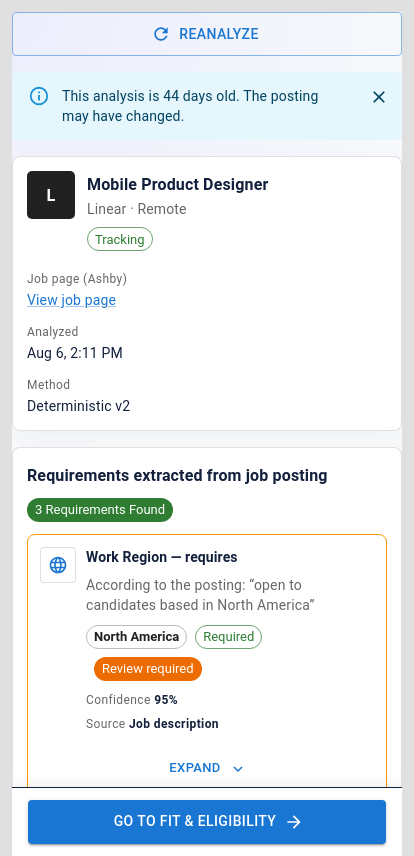
Test: AnalysisStep › preserves previous analysis when reanalyze fails
Click the button "Reanalyze" at coordinates (207, 34), box [12, 12, 402, 56]
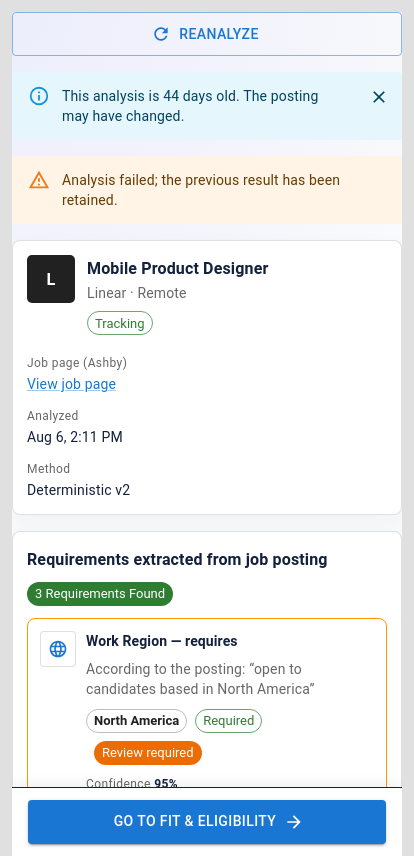
Check: the heading "Work Region — requires" is shown, box [86, 633, 238, 649]
Check: the text "Analysis failed; the previous result has been retained." is shown, box [62, 162, 386, 218]
